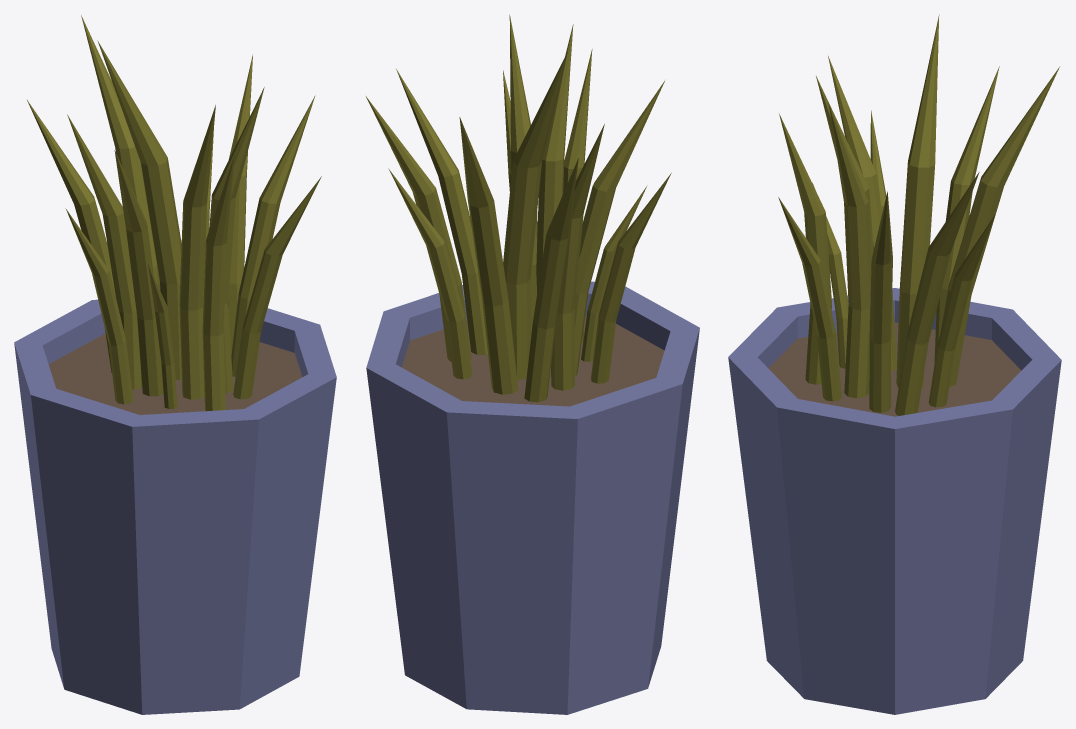
The model's file is Flower_37.fbx.
3 views of the same model, side by side, from view 1: azimuth 30°, elevation 25°; view 2: azimuth 150°, elevation 25°; view 3: azimuth 270°, elevation 25° (orthographic). The views are drawn at different scales.
Parts seen in each view (by area): view 1: Flower_37; view 2: Flower_37; view 3: Flower_37.
Part boxes in pixels (bbox=[...]): Flower_37: bbox=[14, 15, 336, 714]; Flower_37: bbox=[366, 14, 699, 714]; Flower_37: bbox=[728, 14, 1061, 714].
Bounding box in the file's own units: 40.66 × 40.66 × 83.31.
